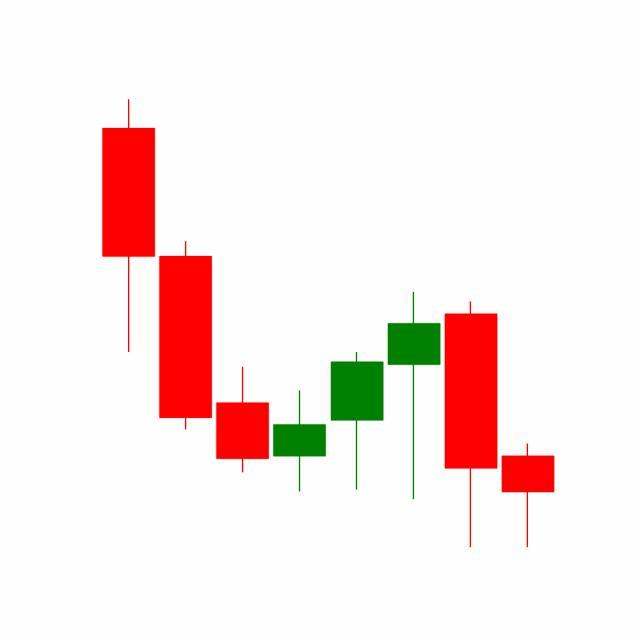Three Line Strike: (271, 288, 501, 548)
